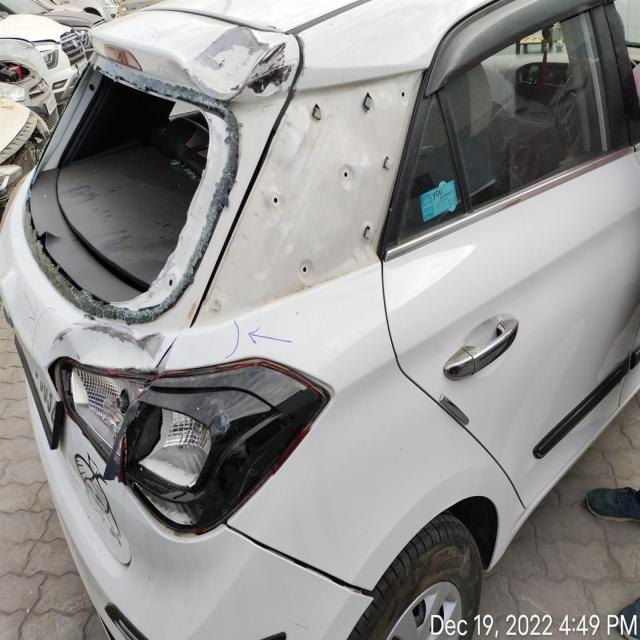damage: (21, 57, 242, 325), (205, 58, 431, 315), (102, 392, 228, 527), (48, 306, 162, 372), (191, 23, 284, 92)
